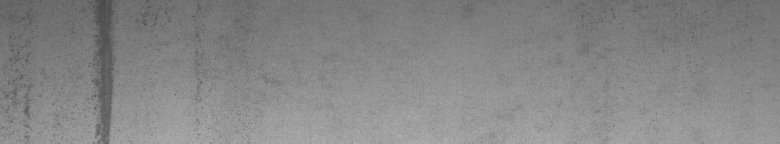hd: (4, 4, 202, 136)
